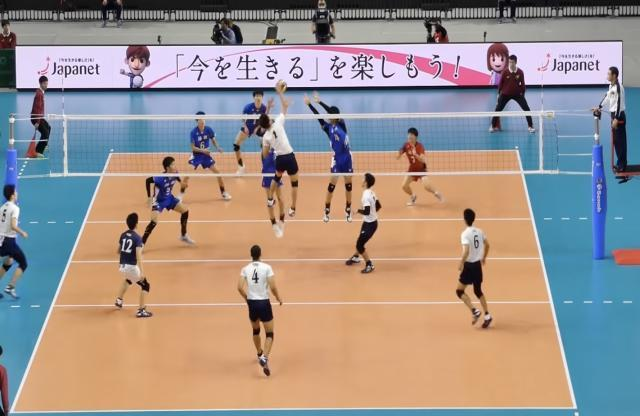spike: (254, 80, 300, 218)
